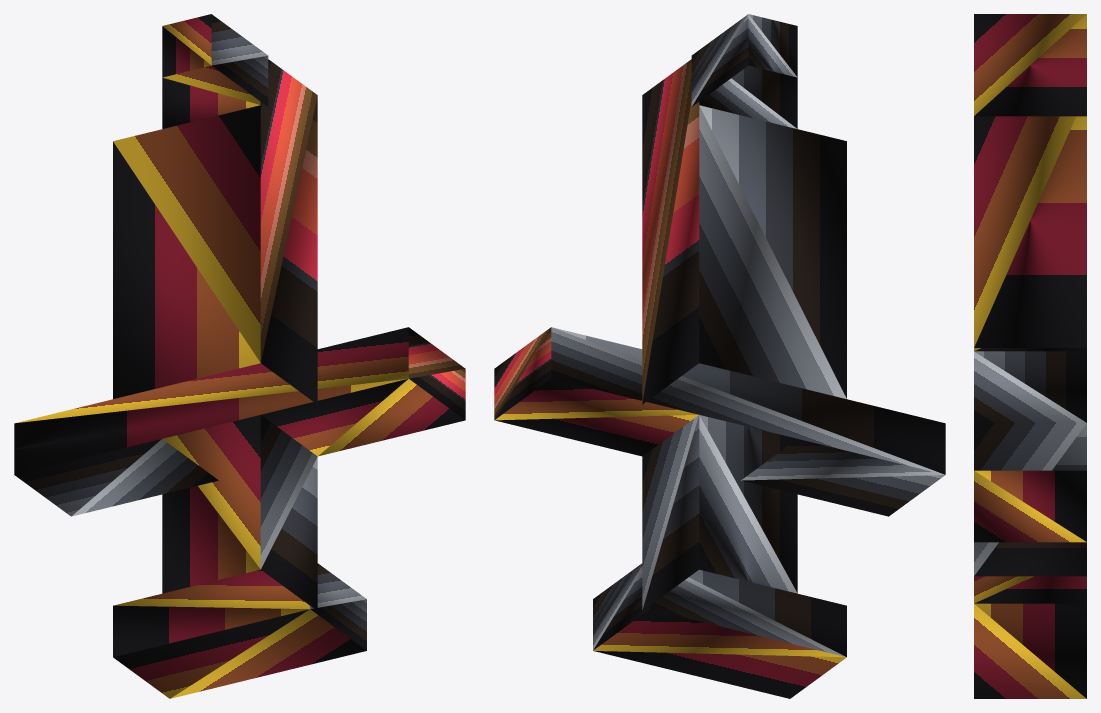
Rendered from sword.glb.
3 views of the same model, side by side, from view 1: azimuth 30°, elevation 25°; view 2: azimuth 150°, elevation 25°; view 3: azimuth 270°, elevation 25° (orthographic).
Visible parts, largest first — view 1: sword; view 2: sword; view 3: sword.
Boxes of the visible parts, left/top/right/bottom form: sword: left=14, top=14, right=465, bottom=698; sword: left=494, top=14, right=945, bottom=698; sword: left=974, top=14, right=1086, bottom=698.
Size of the model in its own units: 0.6333 by 0.95 by 0.1584.
1 material, 1 textured.
